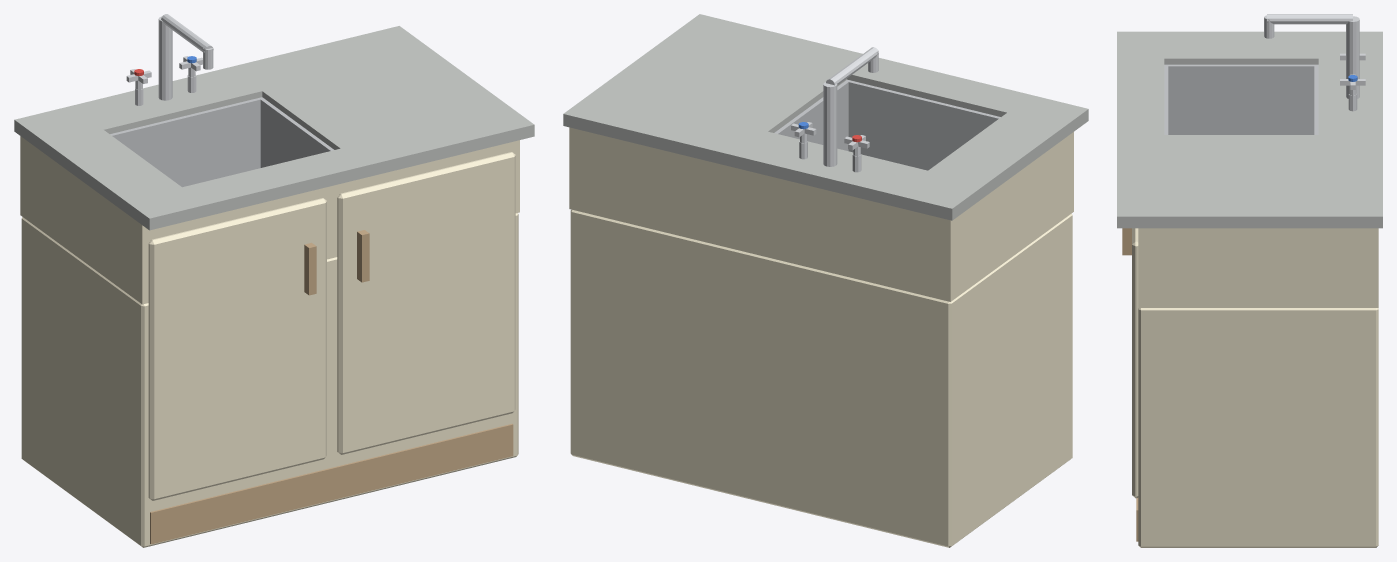
File: kitchen_sink.glb
The picture shows the model from 3 angles, left to right: view 1: azimuth 30°, elevation 25°; view 2: azimuth 150°, elevation 25°; view 3: azimuth 270°, elevation 25°; orthographic projection. The views are drawn at different scales.
Parts seen in each view (by area): view 1: KitchenSinkBody; view 2: KitchenSinkBody; view 3: KitchenSinkBody.
Boxes of the visible parts, <box> form: KitchenSinkBody: <box>14,14,534,547</box>; KitchenSinkBody: <box>563,14,1088,547</box>; KitchenSinkBody: <box>1117,14,1382,547</box>.
Size of the model in its own units: 1.02 by 1.07 by 0.62.
